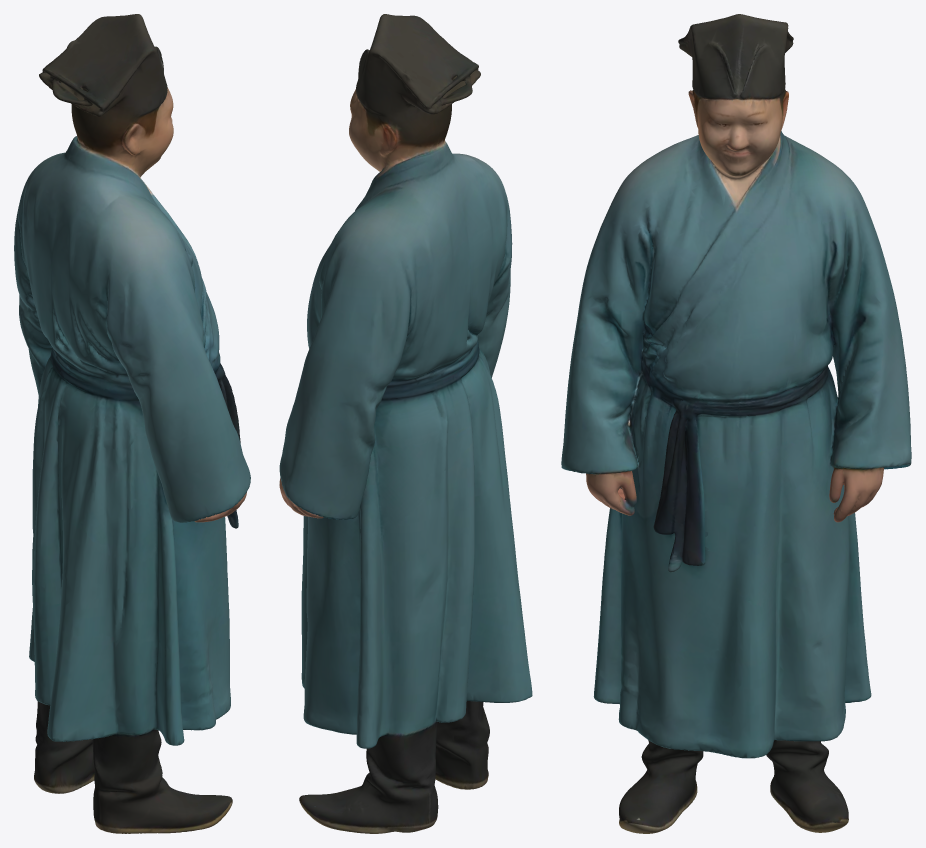
The model's file is su-shi.glb.
3 views of the same model, side by side, from view 1: azimuth 30°, elevation 25°; view 2: azimuth 150°, elevation 25°; view 3: azimuth 270°, elevation 25° (orthographic). The views are drawn at different scales.
Parts seen in each view (by area): view 1: tripo_node_6269dd62-d7c6-465c-8794-5e34daae78f8; view 2: tripo_node_6269dd62-d7c6-465c-8794-5e34daae78f8; view 3: tripo_node_6269dd62-d7c6-465c-8794-5e34daae78f8.
Boxes of the visible parts, x1,y1,x2,y2 form: tripo_node_6269dd62-d7c6-465c-8794-5e34daae78f8: (14,14,250,833); tripo_node_6269dd62-d7c6-465c-8794-5e34daae78f8: (279,14,532,833); tripo_node_6269dd62-d7c6-465c-8794-5e34daae78f8: (561,14,911,833).
Size of the model in its own units: 0.2599 by 1 by 0.3936.
1 material, 1 textured.
